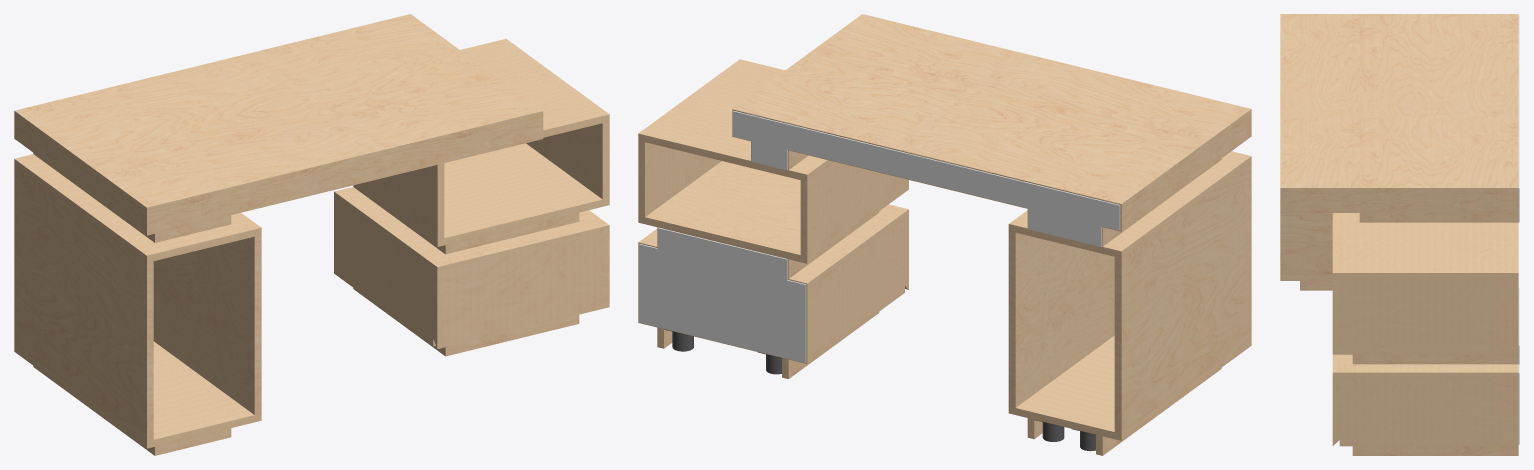
The model's file is Escritorio.glb.
The picture shows the model from 3 angles, left to right: view 1: azimuth 30°, elevation 25°; view 2: azimuth 150°, elevation 25°; view 3: azimuth 270°, elevation 25°; orthographic projection. The views are drawn at different scales.
Parts seen in each view (by area): view 1: Mesh36 Group33 Model, Mesh10 Group10 Model, Mesh26 Diferencia1 Group20 Model, Mesh14 Group15 Model, Mesh16 Group17 Model, Mesh37 Group34 Model, Mesh15 Group16 Model, Mesh21 Group23 Group20 Model, Mesh4 Group4 Model, Mesh6 Group6 Model, Mesh19 Group21 Group20 Model, Mesh18 Group19 Model (+7 smaller); view 2: Mesh36 Group33 Model, Mesh10 Group10 Model, Mesh14 Group15 Model, Mesh42 Diferencia2 Model, Mesh16 Group17 Model, Mesh40 Group37 Model, Mesh6 Group6 Model, Mesh15 Group16 Model, Mesh21 Group23 Group20 Model, Mesh17 Group18 Model, Mesh4 Group4 Model, Mesh18 Group19 Model (+6 smaller); view 3: Mesh36 Group33 Model, Mesh18 Group19 Model, Mesh6 Group6 Model, Mesh22 Group24 Group20 Model, Mesh39 Group36 Model, Mesh14 Group15 Model, Mesh19 Group21 Group20 Model, Mesh33 Group30 Model, Mesh25 Group27 Group20 Model, Mesh5 Group5 Model, Mesh16 Group17 Model, Mesh20 Group22 Group20 Model (+4 smaller).
Part boxes in pixels (x1=…): Mesh36 Group33 Model: x1=14, y1=14, x2=543, y2=214; Mesh10 Group10 Model: x1=14, y1=166, x2=153, y2=441; Mesh26 Diferencia1 Group20 Model: x1=433, y1=222, x2=609, y2=348; Mesh14 Group15 Model: x1=153, y1=235, x2=261, y2=414; Mesh16 Group17 Model: x1=353, y1=143, x2=609, y2=246; Mesh37 Group34 Model: x1=143, y1=118, x2=543, y2=235; Mesh15 Group16 Model: x1=14, y1=341, x2=261, y2=448; Mesh21 Group23 Group20 Model: x1=334, y1=199, x2=433, y2=338; Mesh4 Group4 Model: x1=14, y1=154, x2=261, y2=262; Mesh6 Group6 Model: x1=460, y1=39, x2=609, y2=137; Mesh19 Group21 Group20 Model: x1=334, y1=187, x2=604, y2=270; Mesh18 Group19 Model: x1=526, y1=121, x2=609, y2=199; Mesh36 Group33 Model: x1=732, y1=14, x2=1251, y2=211; Mesh10 Group10 Model: x1=1114, y1=163, x2=1251, y2=433; Mesh14 Group15 Model: x1=1008, y1=231, x2=1114, y2=407; Mesh42 Diferencia2 Model: x1=639, y1=244, x2=806, y2=362; Mesh16 Group17 Model: x1=638, y1=161, x2=908, y2=263; Mesh40 Group37 Model: x1=732, y1=110, x2=1120, y2=230; Mesh6 Group6 Model: x1=638, y1=59, x2=834, y2=181; Mesh15 Group16 Model: x1=1008, y1=335, x2=1251, y2=440; Mesh21 Group23 Group20 Model: x1=806, y1=219, x2=904, y2=356; Mesh17 Group18 Model: x1=800, y1=162, x2=908, y2=256; Mesh4 Group4 Model: x1=1008, y1=151, x2=1251, y2=258; Mesh18 Group19 Model: x1=638, y1=140, x2=721, y2=216; Mesh36 Group33 Model: x1=1280, y1=14, x2=1518, y2=194; Mesh18 Group19 Model: x1=1332, y1=279, x2=1518, y2=348; Mesh6 Group6 Model: x1=1332, y1=213, x2=1518, y2=279; Mesh22 Group24 Group20 Model: x1=1339, y1=379, x2=1518, y2=439; Mesh39 Group36 Model: x1=1287, y1=194, x2=1518, y2=212; Mesh14 Group15 Model: x1=1280, y1=213, x2=1332, y2=274; Mesh19 Group21 Group20 Model: x1=1339, y1=354, x2=1518, y2=378; Mesh33 Group30 Model: x1=1359, y1=354, x2=1518, y2=364; Mesh25 Group27 Group20 Model: x1=1359, y1=446, x2=1518, y2=455; Mesh5 Group5 Model: x1=1367, y1=213, x2=1518, y2=222; Mesh16 Group17 Model: x1=1332, y1=348, x2=1518, y2=354; Mesh20 Group22 Group20 Model: x1=1339, y1=440, x2=1518, y2=446.
Size of the model in its own units: 1.29 by 0.653 by 0.603.
Materials: 58 (35 with a texture image).
